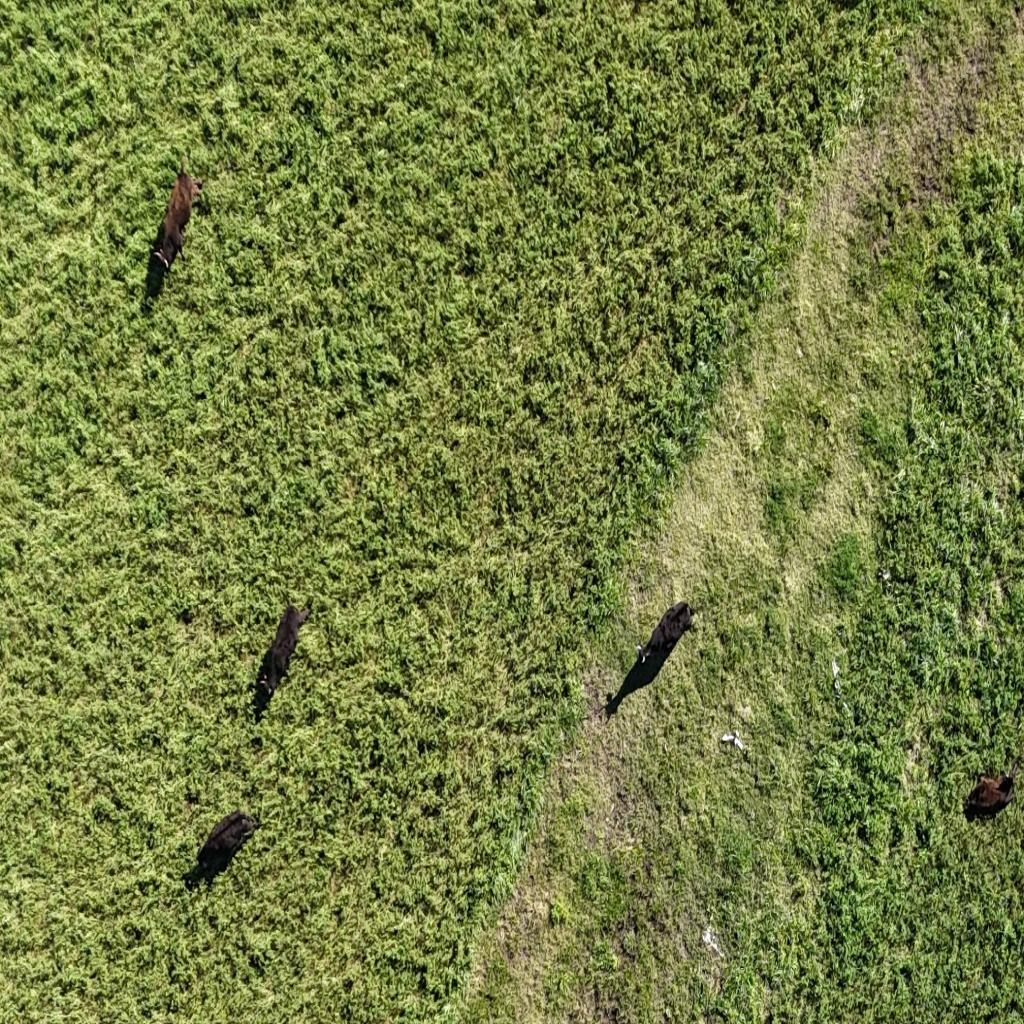cow: (604, 596, 701, 724), (146, 157, 208, 286), (183, 799, 269, 889), (252, 594, 314, 708), (960, 749, 1022, 823)
